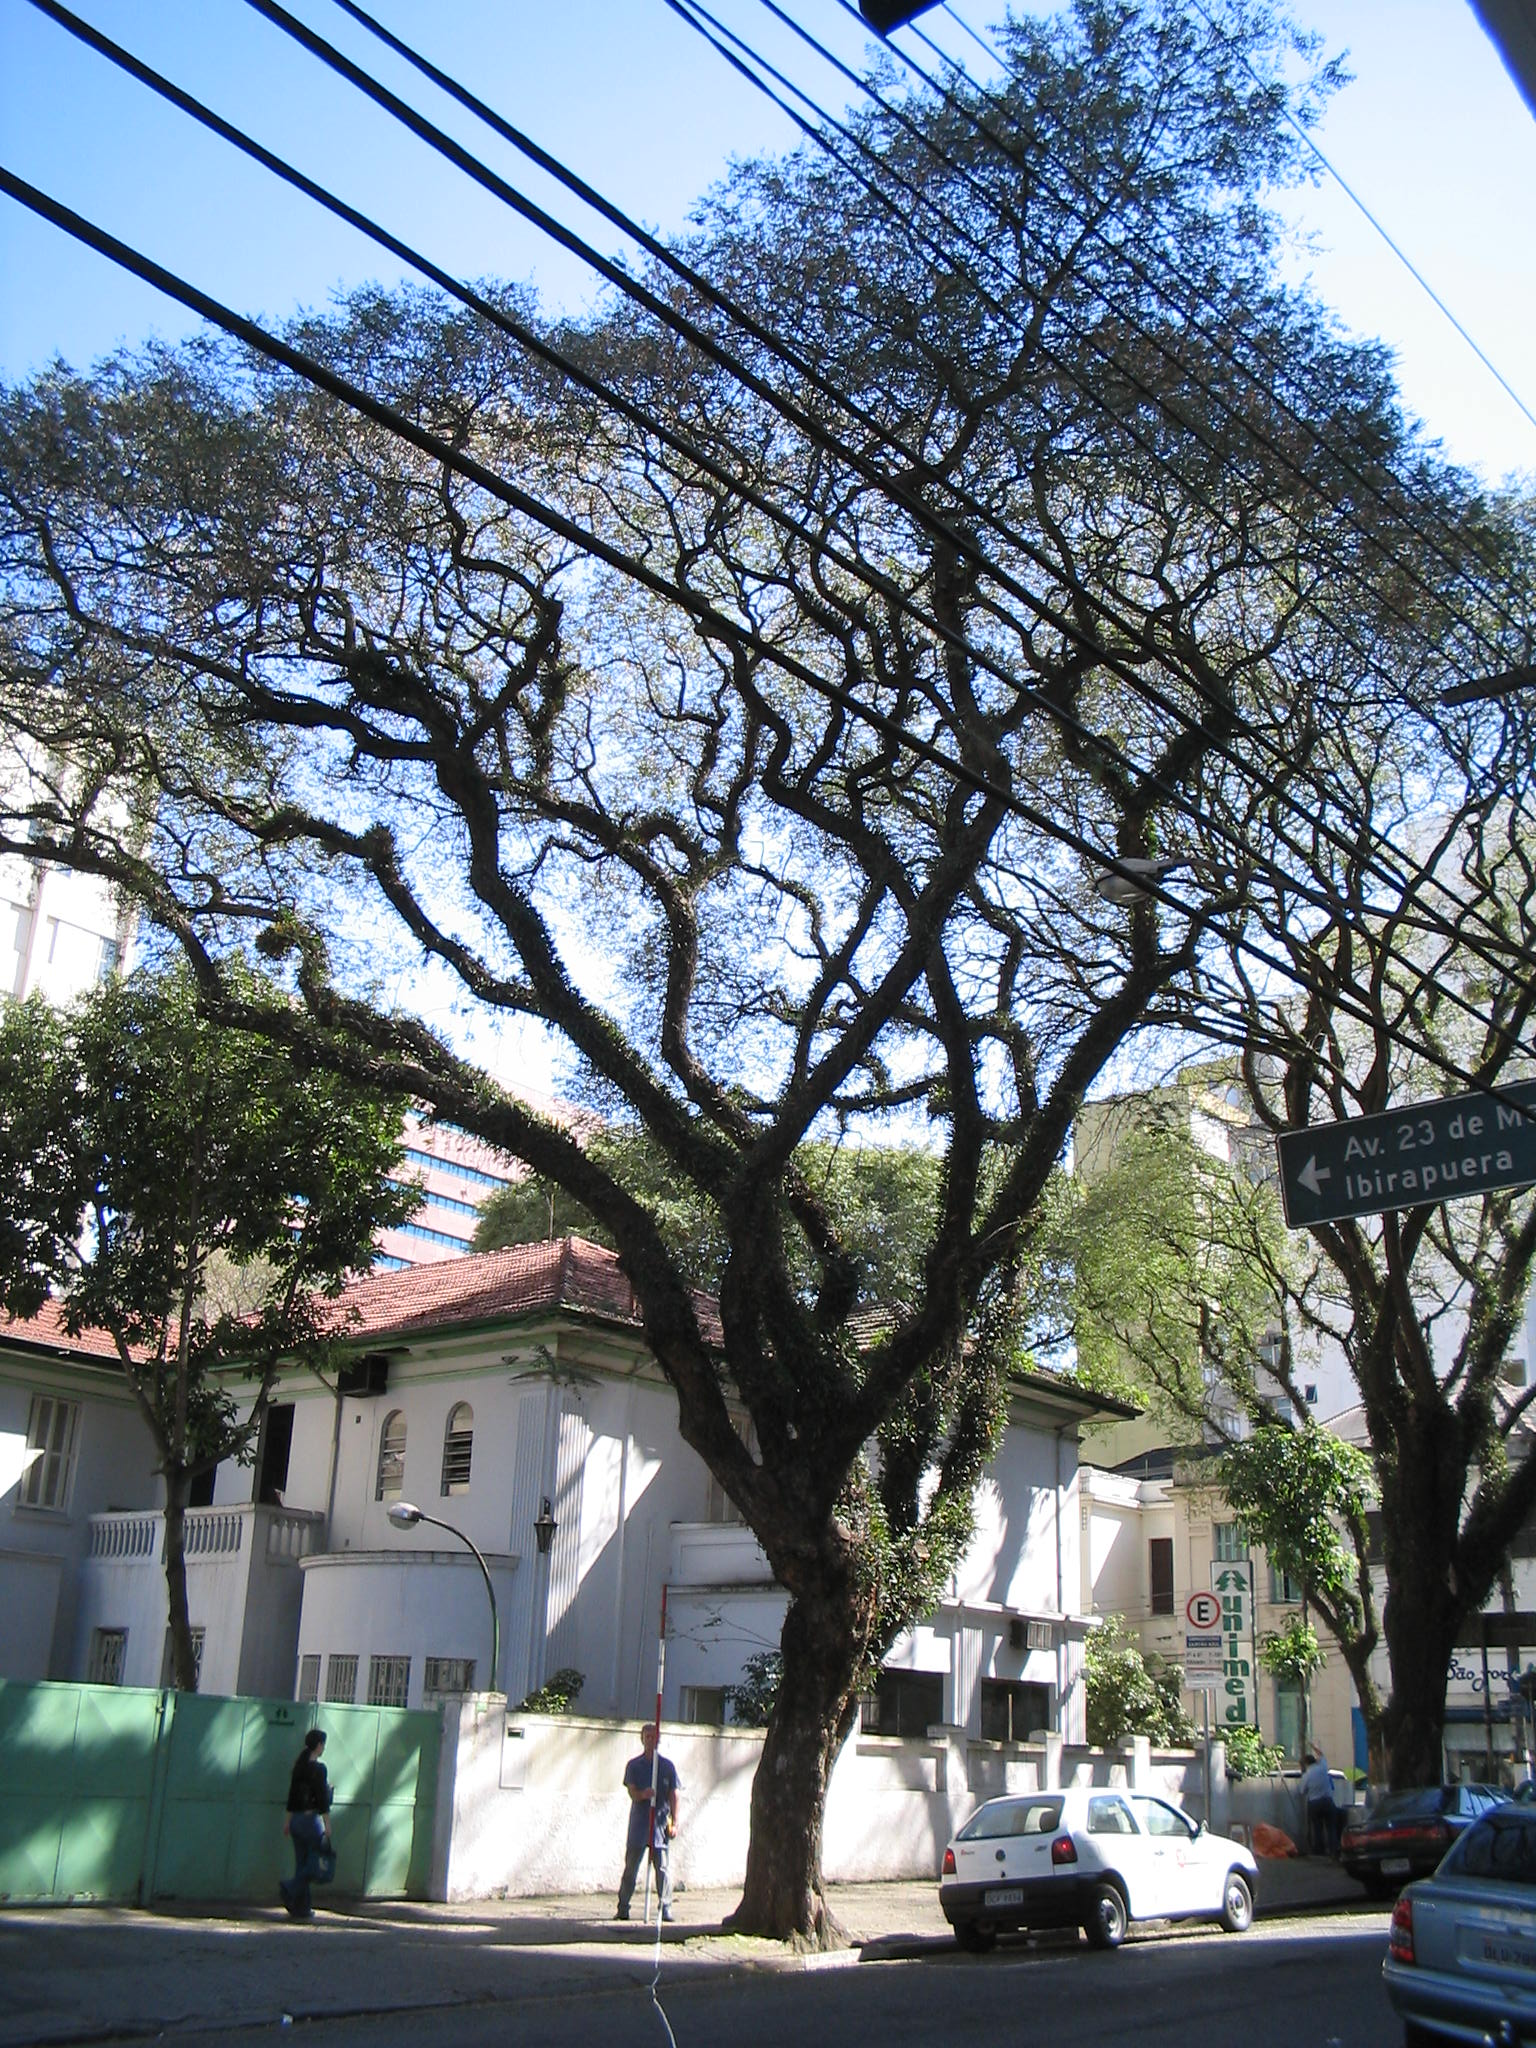crown: (11, 2, 1525, 956)
stem: (707, 1601, 928, 1940), (1338, 1593, 1480, 1869)
stick: (636, 1580, 679, 1924)
tree: (6, 5, 1536, 1945), (1154, 502, 1534, 1875)
